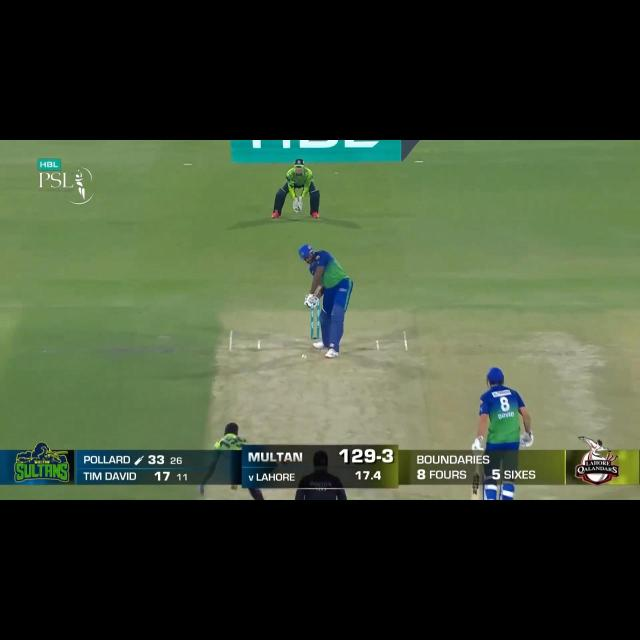bat: (467, 484, 484, 499), (315, 288, 324, 298)
